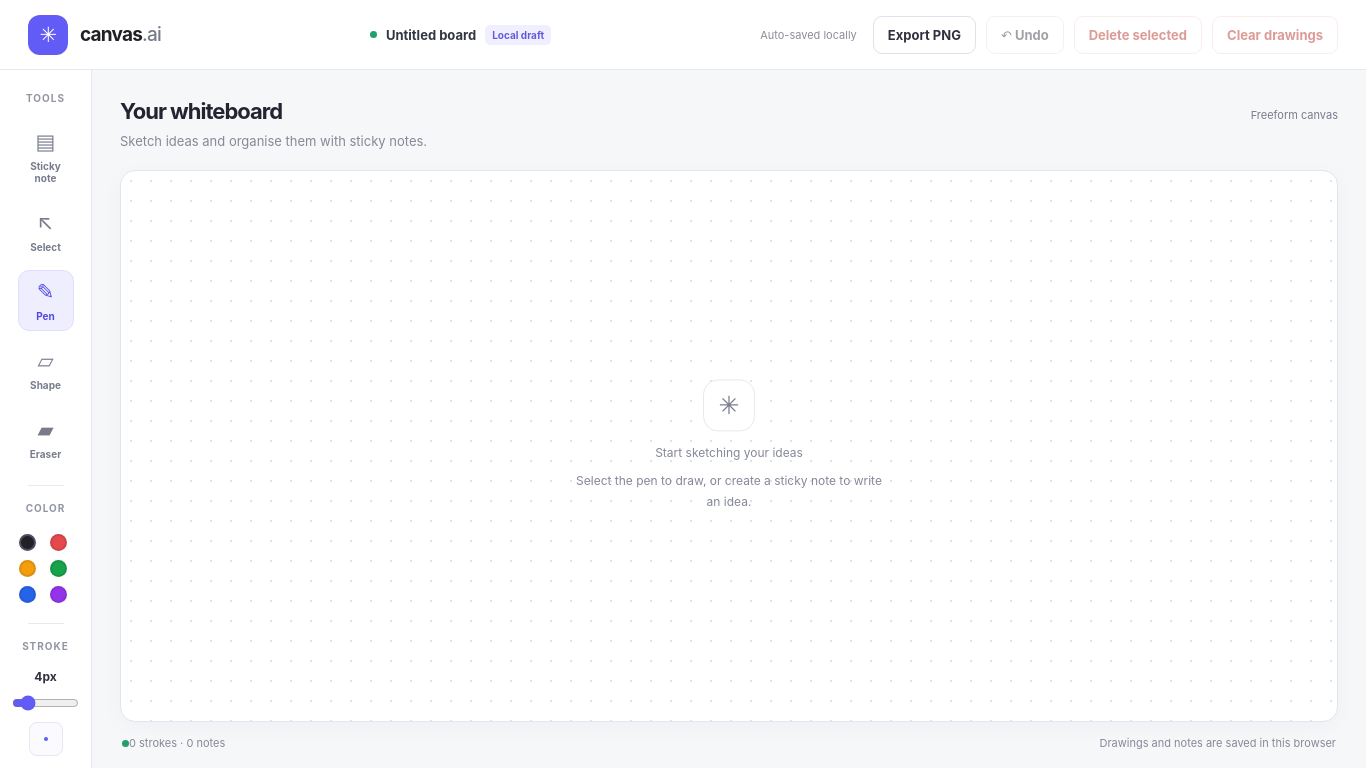
Test: App › deletes a sticky note
The image size is (1366, 768).
Click the button "▤ Sticky note": (46, 156) [18,120,74,193]
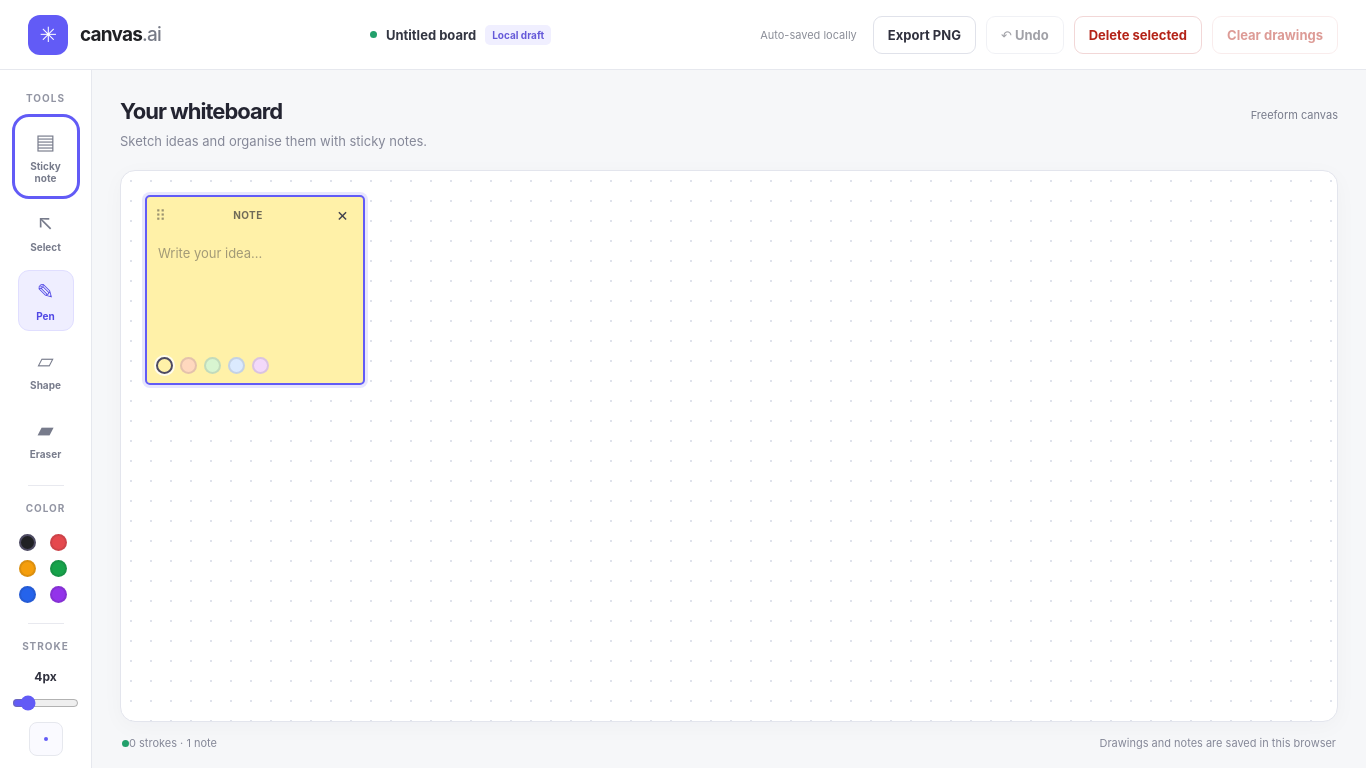
Result: the number of elements with class "sticky-note" is 1 at [145,195,365,385]
Click the button named "delete sticky note": (342, 215) [330,203,355,228]
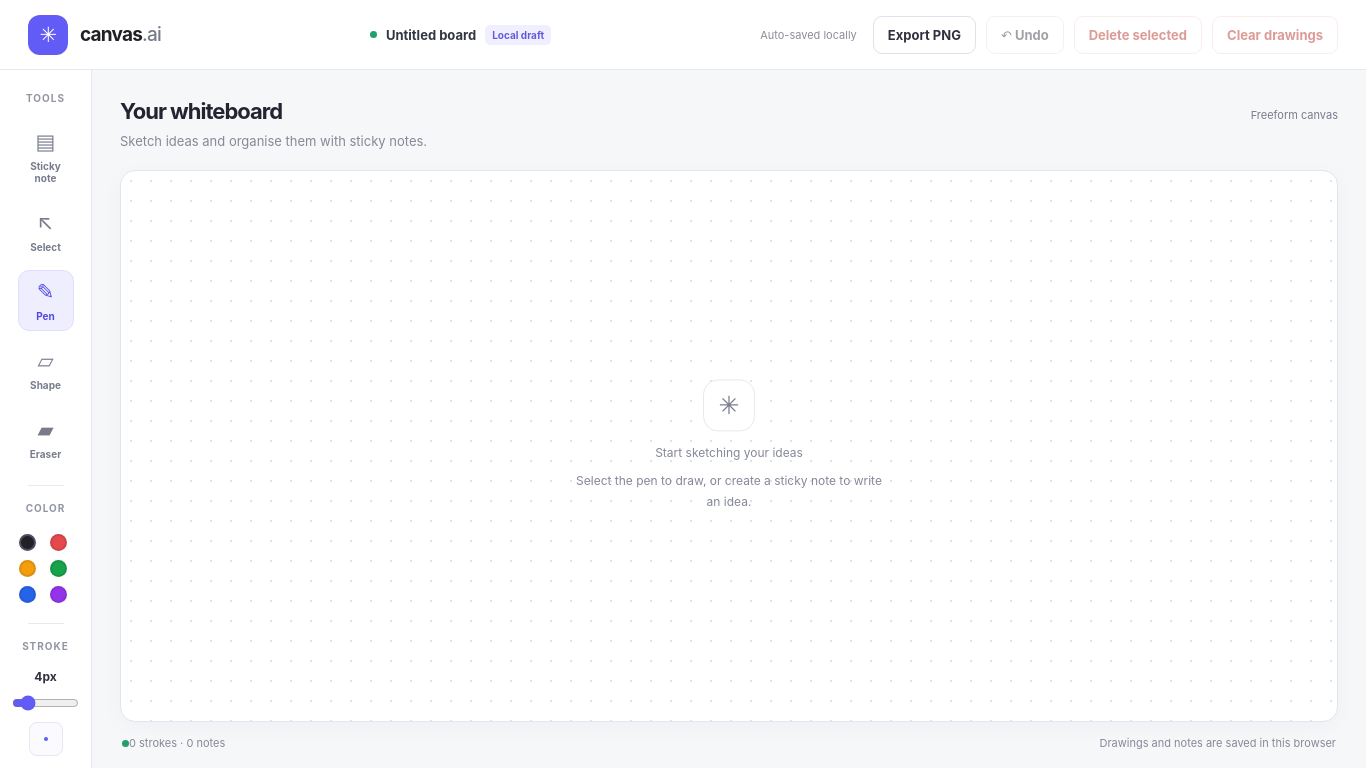
Result: no elements with class "sticky-note" are shown
